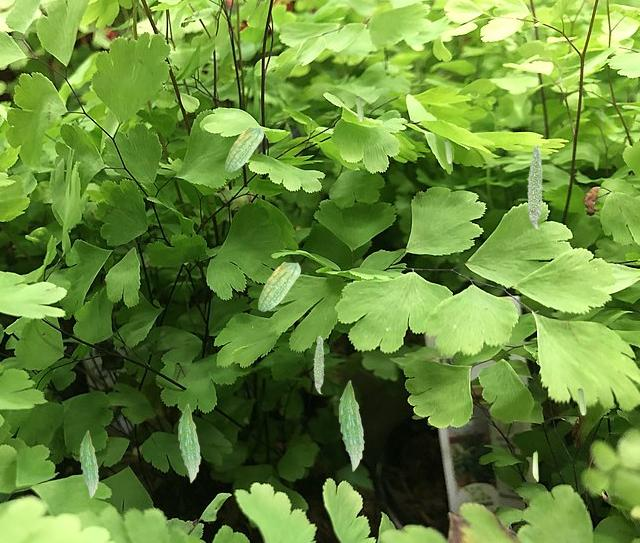ampalaya: (338, 380, 364, 471), (257, 261, 301, 312), (224, 126, 264, 172), (178, 403, 201, 483), (526, 144, 543, 229), (79, 430, 99, 498), (313, 335, 324, 394), (355, 95, 364, 122), (577, 388, 586, 415), (532, 450, 539, 482), (444, 139, 452, 164)
